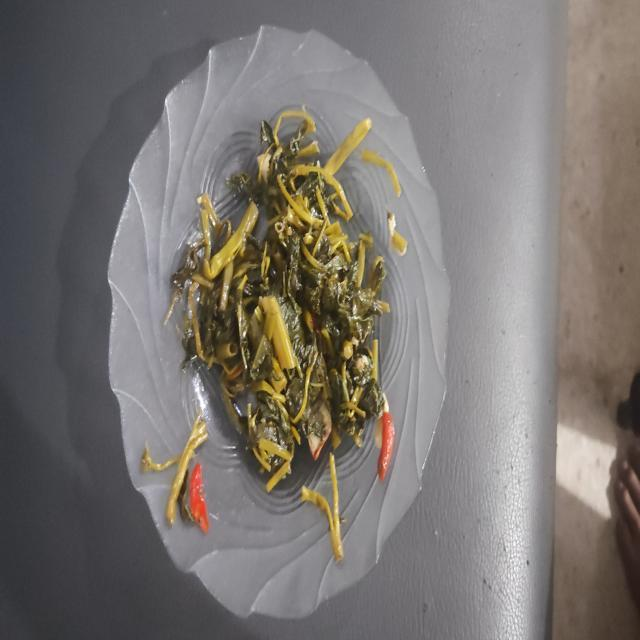tumis_kangkung: (172, 106, 390, 492)
